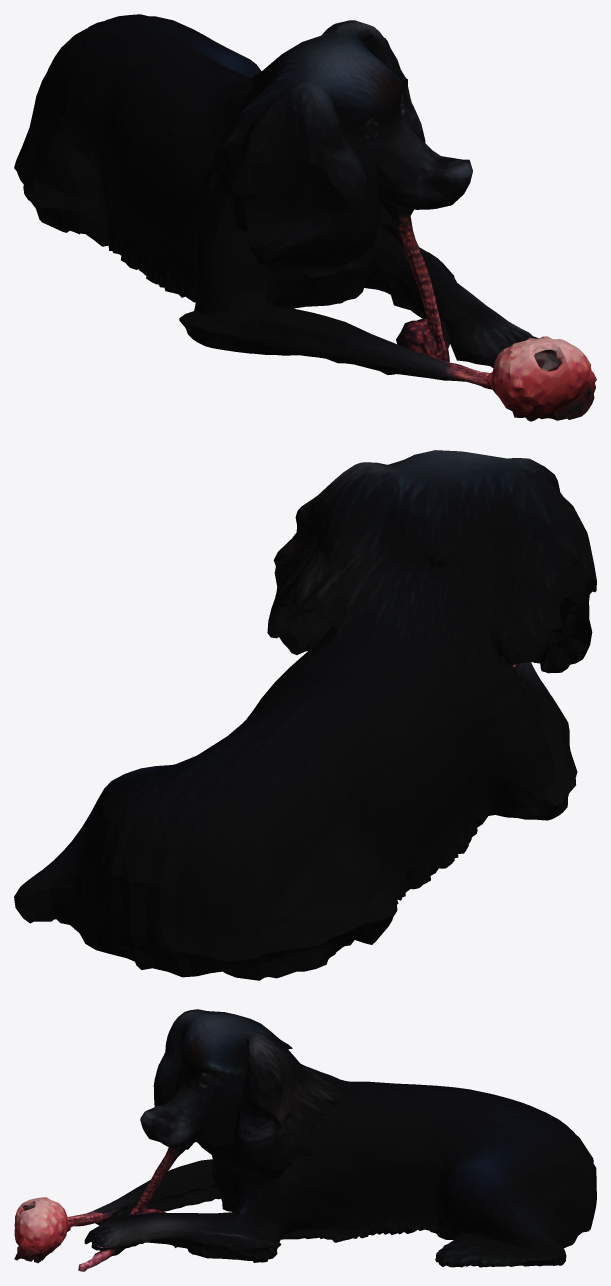
The model's file is dog.glb.
The picture shows the model from 3 angles, top to bottom: view 1: azimuth 30°, elevation 25°; view 2: azimuth 150°, elevation 25°; view 3: azimuth 270°, elevation 25°; orthographic projection. The views are drawn at different scales.
Visible parts, largest first — view 1: world; view 2: world; view 3: world.
Part boxes in pixels (left/top/right/bottom): world: left=14, top=14, right=596, bottom=421; world: left=14, top=450, right=596, bottom=980; world: left=14, top=1009, right=596, bottom=1271.
Bounding box in the file's own units: 0.402 × 0.388 × 0.9994.
Materials: 1 (1 with a texture image).
